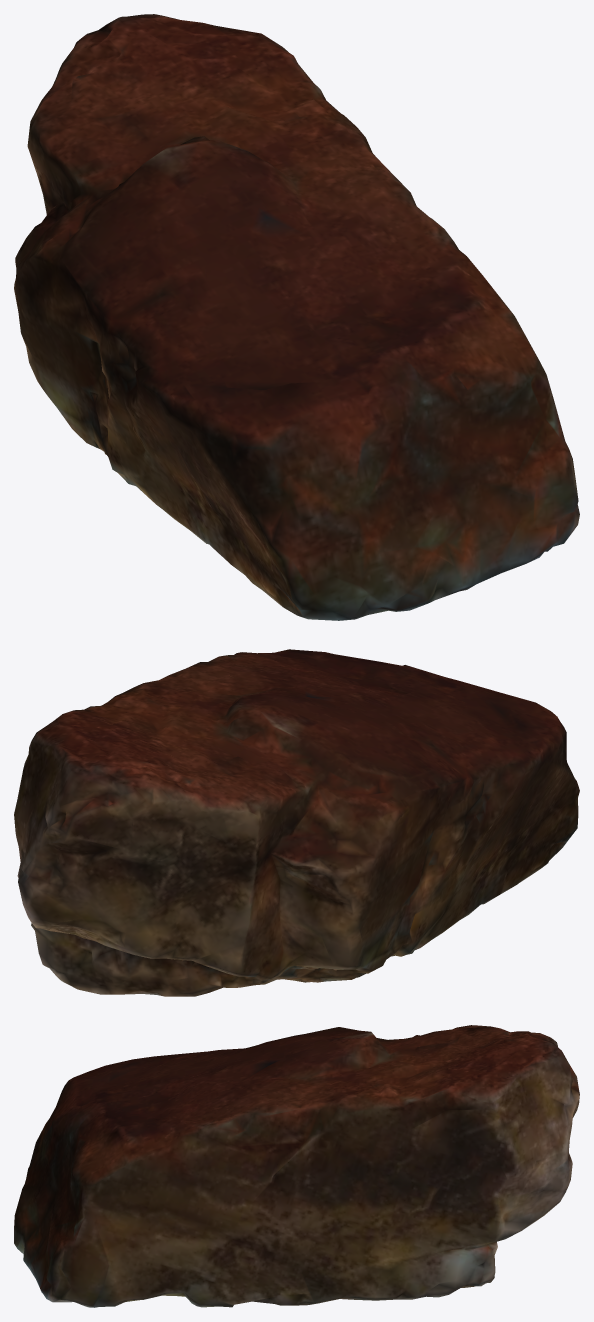
The model's file is rock_07.glb.
3 views of the same model, one above another, from view 1: azimuth 30°, elevation 25°; view 2: azimuth 150°, elevation 25°; view 3: azimuth 270°, elevation 25° (orthographic). The views are drawn at different scales.
Parts seen in each view (by area): view 1: rock_07; view 2: rock_07; view 3: rock_07.
Part boxes in pixels (left/top/right/bottom): rock_07: left=14, top=14, right=579, bottom=620; rock_07: left=14, top=649, right=579, bottom=996; rock_07: left=14, top=1025, right=579, bottom=1307.
Bounding box in the file's own units: 0.1686 × 0.1437 × 0.3199.
Materials: 1 (1 with a texture image).
